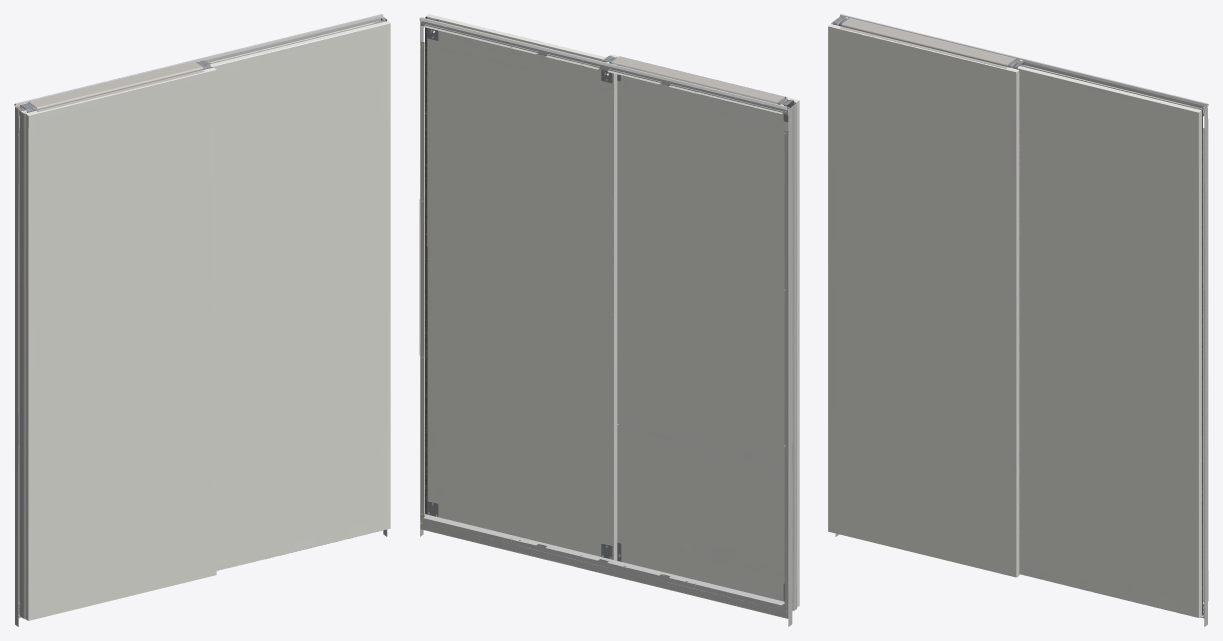
File: 23 - HASVIK - 滑門組, 高亮面 白色, 150x201 公分 IKEA 線上購物.glb
3 renders of one model, left to right at view 1: azimuth 30°, elevation 25°; view 2: azimuth 150°, elevation 25°; view 3: azimuth 330°, elevation 25°, orthographic.
Visible parts, largest first — view 1: model; view 2: model; view 3: model.
Boxes of the visible parts, x1=… form: model: x1=14, y1=14, x2=390, y2=626; model: x1=419, y1=14, x2=799, y2=626; model: x1=828, y1=14, x2=1208, y2=626.
Bounding box in the file's own units: 1.5 × 2.02 × 0.1021.
1 material, 1 textured.
